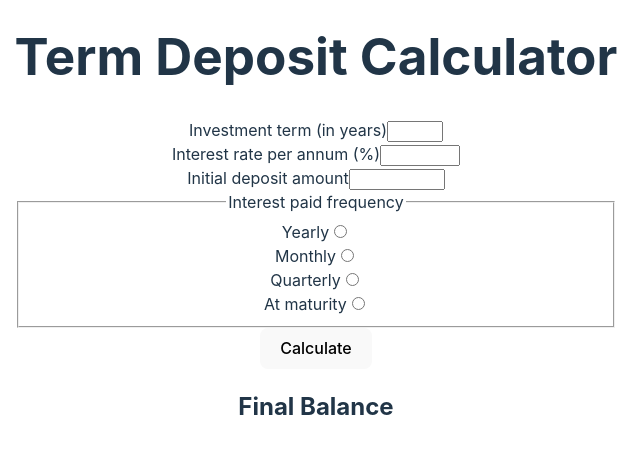
TermDepositCalculator › should display final balance when form is submitted with term deposit interest paid Yearly
Type "3" into the number field labelled "Investment term (in years)" at (415, 132), box x1=387 y1=121 x2=443 y2=142
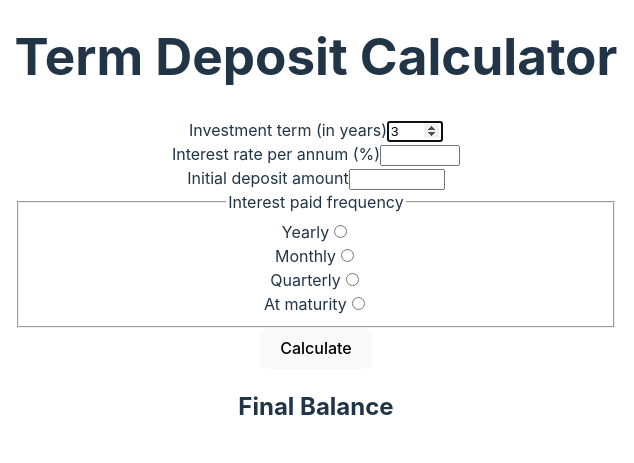
Type "5" into the number field labelled "Interest rate per annum (%)" at (420, 156), box x1=380 y1=145 x2=460 y2=166
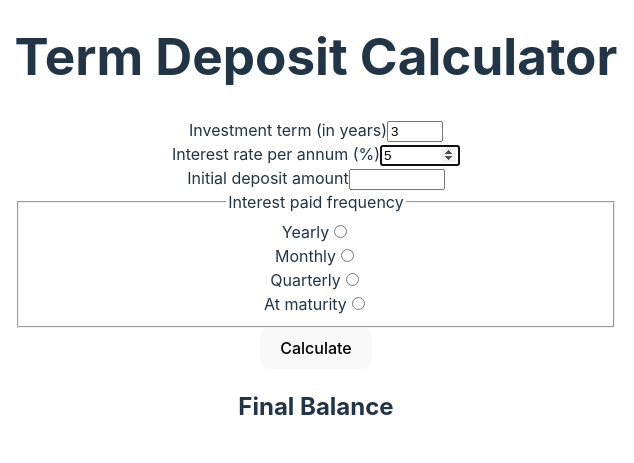
Type "10000" into the number field labelled "Initial deposit amount" at (397, 180), box x1=349 y1=169 x2=445 y2=190
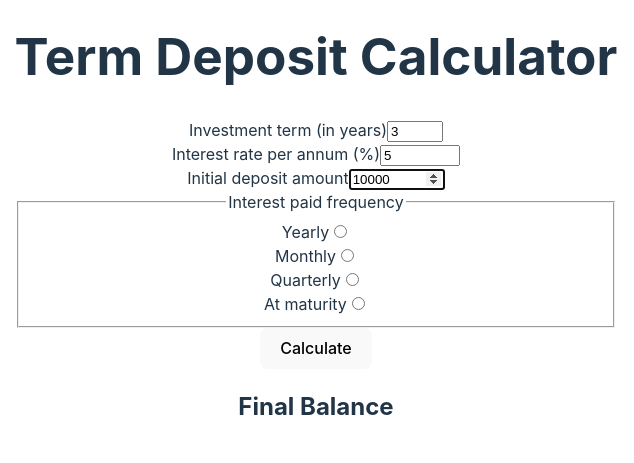
Click the radio button labelled "Yearly" at (341, 231), box x1=334 y1=225 x2=347 y2=238
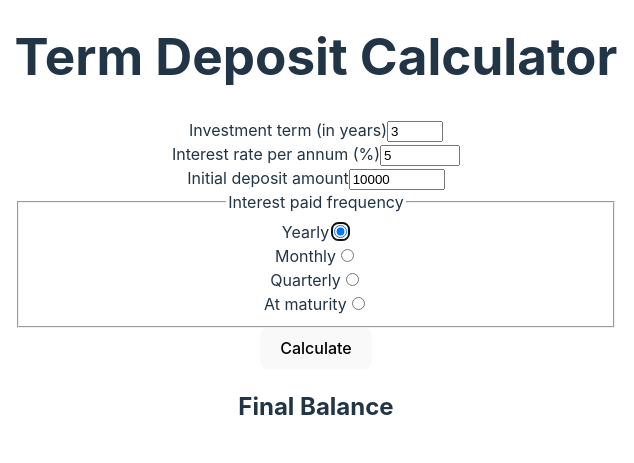
Click the button "Calculate" at (316, 348), box x1=260 y1=328 x2=372 y2=369
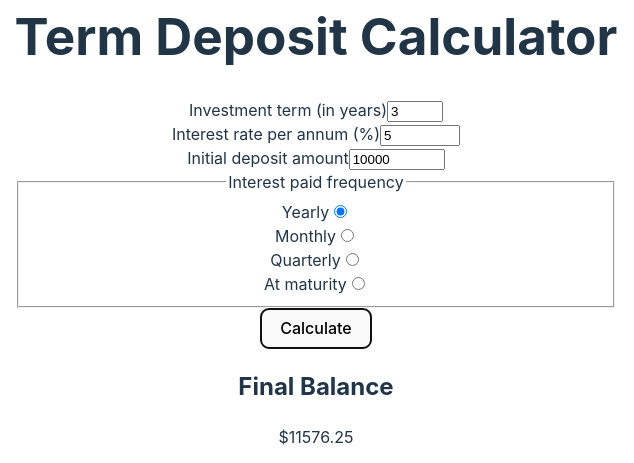
Expected: the text "$11576.25" is shown, x1=279 y1=427 x2=353 y2=447
